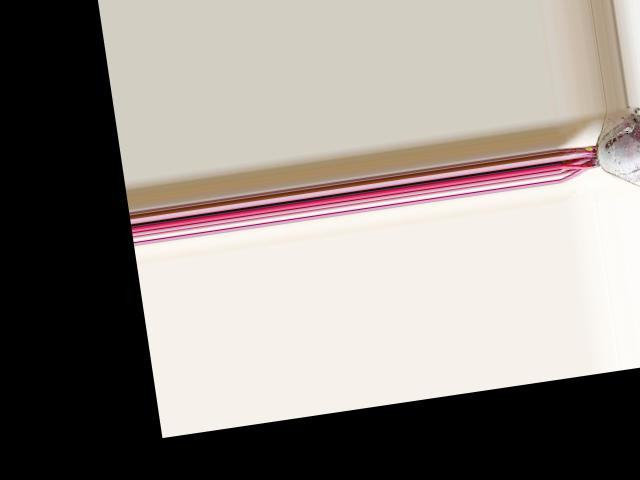beet: (554, 106, 640, 204)
